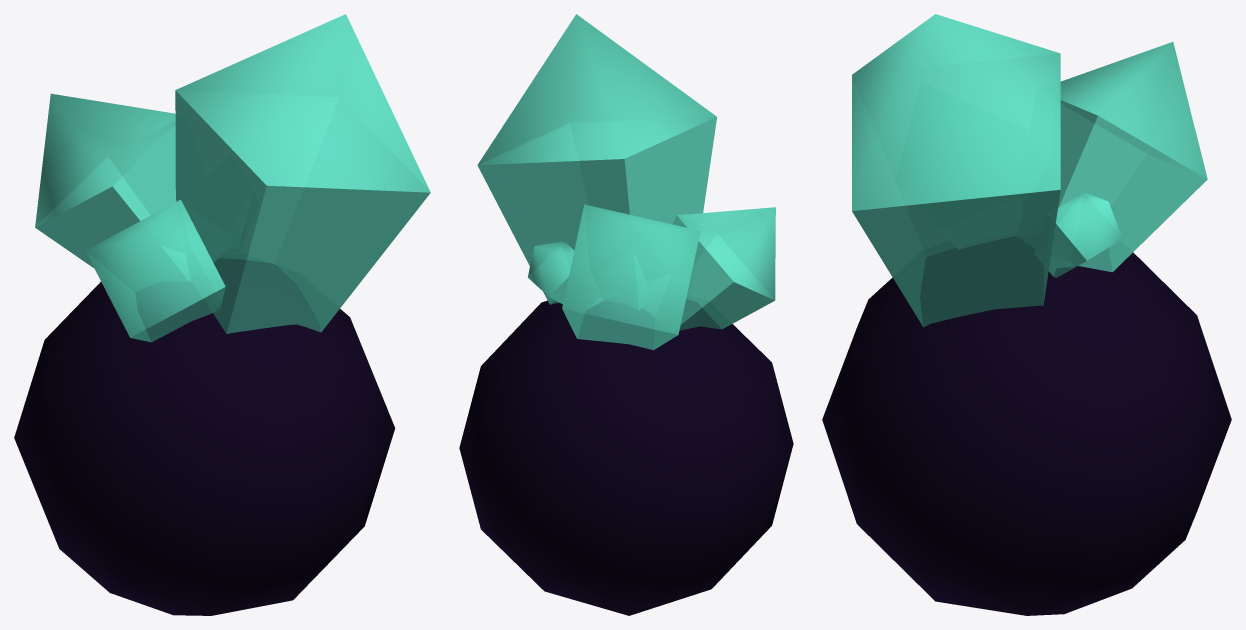
Rendered from Crystal.fbx.
3 views of the same model, side by side, from view 1: azimuth 30°, elevation 25°; view 2: azimuth 150°, elevation 25°; view 3: azimuth 270°, elevation 25° (orthographic). The views are drawn at different scales.
Visible parts, largest first — view 1: pPlatonic1, pCube1, pCube2, pCube3; view 2: pPlatonic1, pCube1, pCube2, pCube3, pCube4; view 3: pPlatonic1, pCube1, pCube2, pCube4.
Part boxes in pixels (x1=…): pPlatonic1: x1=14, y1=259, x2=395, y2=615; pCube1: x1=175, y1=14, x2=430, y2=333; pCube2: x1=35, y1=93, x2=226, y2=267; pCube3: x1=85, y1=199, x2=225, y2=342; pPlatonic1: x1=459, y1=299, x2=793, y2=615; pCube1: x1=477, y1=14, x2=716, y2=304; pCube2: x1=562, y1=204, x2=700, y2=350; pCube3: x1=672, y1=207, x2=775, y2=330; pCube4: x1=527, y1=241, x2=600, y2=309; pPlatonic1: x1=822, y1=237, x2=1231, y2=615; pCube1: x1=852, y1=14, x2=1060, y2=327; pCube2: x1=1058, y1=42, x2=1207, y2=272; pCube4: x1=1035, y1=192, x2=1122, y2=277.
Size of the model in its own units: 1.86 by 3.34 by 1.94.
